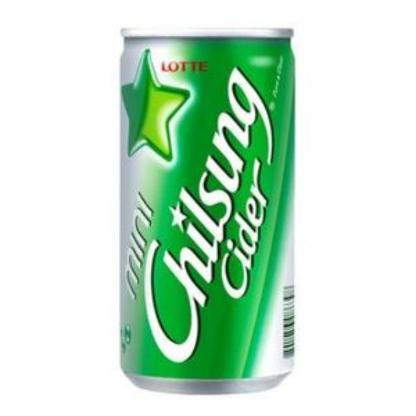Can: (120, 26, 294, 394)
